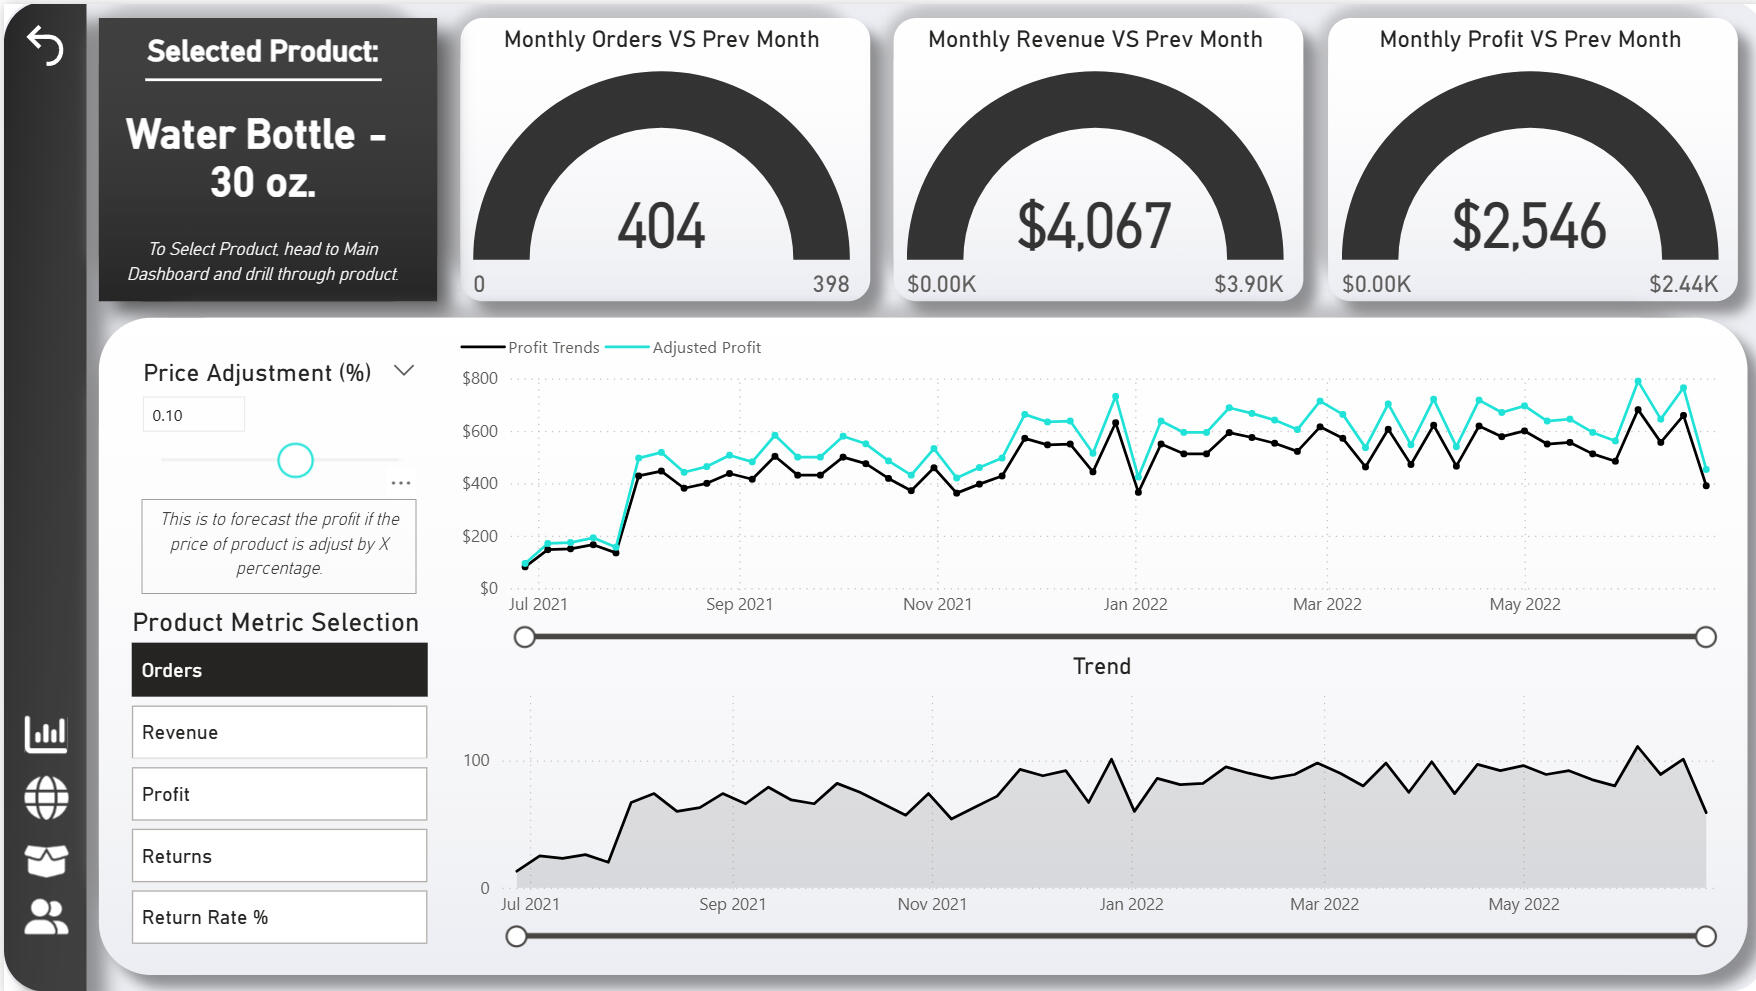

Layout of this report page (visuals, bound fields, positions):
{"tool":"powerbi","page":{"name":"Product Detail","canvas":[1280,720],"ordinal":2},"visuals":[{"type":"gauge","title":"Monthly Orders VS Prev Month","fields":{"Y":["Measure Table.Total Orders"],"MaxValue":["Measure Table.Previous Month Orders"]},"box":[336,15.5,284,214.4],"z":0},{"type":"actionButton","box":[10.7,511.6,40,39.2],"z":0,"group":"g1"},{"type":"gauge","title":"Monthly Revenue VS Prev Month","fields":{"Y":["Measure Table.Total Revenue"],"MaxValue":["Measure Table.Previous Month Revenue"]},"box":[652.1,15.5,284,214.4],"z":1000},{"type":"actionButton","box":[10.7,557.4,40,40],"z":1000,"group":"g1"},{"type":"gauge","title":"Monthly Profit VS Prev Month","fields":{"Y":["Measure Table.Profit"],"MaxValue":["Measure Table.Previous Month Profit"]},"box":[968.1,15.5,284,214.4],"z":2000},{"type":"actionButton","box":[10.7,643.3,40,40],"z":2000,"group":"g1"},{"type":"lineChart","title":"Profits Trend","fields":{"Category":["Calendar Lookup.Date Hierarchy.Start of Year","Calendar Lookup.Date Hierarchy.Start of Month","Calendar Lookup.Date Hierarchy.Start of Week","Calendar Lookup.Date Hierarchy.Date"],"Y":["Measure Table.Profit","Measure Table.Adjusted Profit"]},"box":[328,230,941,241],"z":3000},{"type":"actionButton","box":[10.7,603.3,40,40],"z":3000,"group":"g1"},{"type":"card","fields":{"Values":["Min(Product Lookup.ProductName)"]},"box":[65,44,246,131],"z":4000},{"type":"textbox","box":[83,16,211,45],"z":5000},{"type":"slicer","fields":{"Values":["Price Adjustment (%).Price Adjustment (%)"]},"box":[88,253,223,160],"z":6000},{"type":"advancedSlicerVisual","title":"Product Metric Selection","fields":{"Values":["Product Metric Selection.Product Metric Selection"]},"box":[88,438,225,251],"z":7000},{"type":"textbox","box":[70,164,236,47],"z":8000},{"type":"areaChart","title":"Trend","fields":{"Y":["Measure Table.Total Orders"],"Category":["Calendar Lookup.Date Hierarchy.Start of Year","Calendar Lookup.Date Hierarchy.Start of Month","Calendar Lookup.Date Hierarchy.Start of Week","Calendar Lookup.Date Hierarchy.Date"]},"box":[328,471,941,218],"z":9000},{"type":"actionButton","box":[10,10,45,40],"z":10000},{"type":"textbox","box":[100,360,200,69],"z":11000},{"type":"group","id":"g1","title":"Nav Button","box":[10.7,511.6,40,171.2],"z":12000},{"type":"shape","box":[103,49,172,12],"z":13000}]}

Visuals, with their boxes in screenshot pixels (x1, y1, x2, y2), scaled from the page's 1280x720 canvas onto the 1756x991 screenshot:
"Monthly Orders VS Prev Month" gauge: pyautogui.locateOnScreen(461, 21, 851, 316)
actionButton: pyautogui.locateOnScreen(15, 704, 70, 758)
"Monthly Revenue VS Prev Month" gauge: pyautogui.locateOnScreen(895, 21, 1284, 316)
actionButton: pyautogui.locateOnScreen(15, 767, 70, 822)
"Monthly Profit VS Prev Month" gauge: pyautogui.locateOnScreen(1328, 21, 1718, 316)
actionButton: pyautogui.locateOnScreen(15, 885, 70, 940)
"Profits Trend" lineChart: pyautogui.locateOnScreen(450, 317, 1741, 648)
actionButton: pyautogui.locateOnScreen(15, 830, 70, 885)
card - Min(Product Lookup.ProductName): pyautogui.locateOnScreen(89, 61, 427, 241)
textbox: pyautogui.locateOnScreen(114, 22, 403, 84)
slicer - Price Adjustment (%).Price Adjustment (%): pyautogui.locateOnScreen(121, 348, 427, 568)
"Product Metric Selection" advancedSlicerVisual: pyautogui.locateOnScreen(121, 603, 429, 948)
textbox: pyautogui.locateOnScreen(96, 226, 420, 290)
"Trend" areaChart: pyautogui.locateOnScreen(450, 648, 1741, 948)
actionButton: pyautogui.locateOnScreen(14, 14, 75, 69)
textbox: pyautogui.locateOnScreen(137, 496, 412, 590)
"Nav Button" group: pyautogui.locateOnScreen(15, 704, 70, 940)
shape: pyautogui.locateOnScreen(141, 67, 377, 84)
